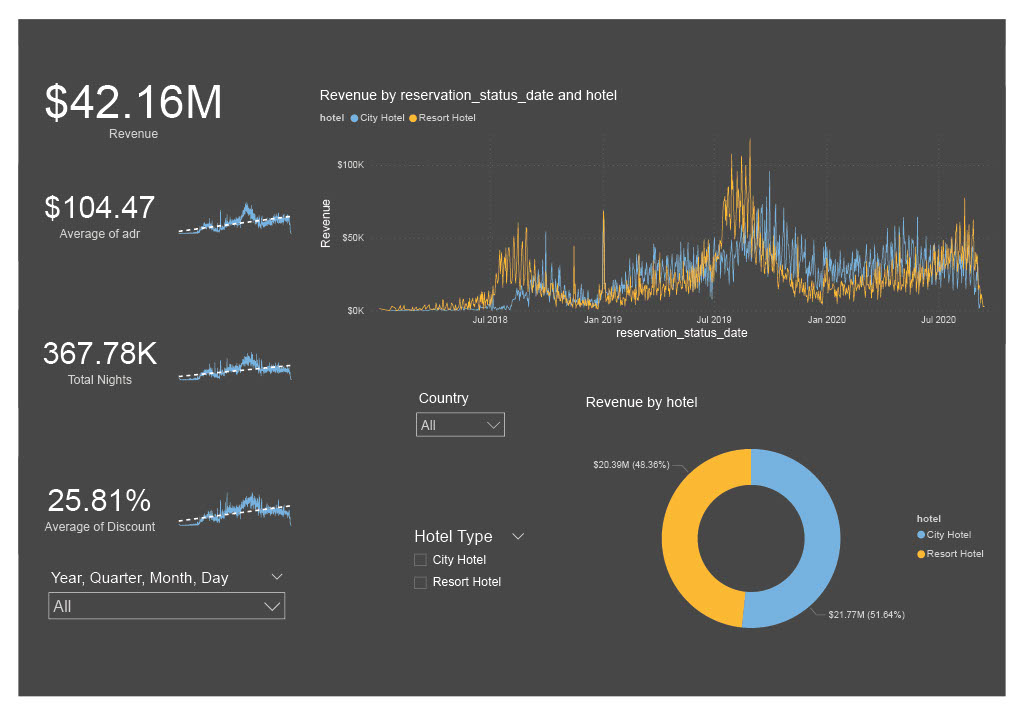

The page's visual inventory and layout, read from the dashboard file:
{"tool":"powerbi","page":{"name":"The Lodging Lens","canvas":[1280,877],"ordinal":0},"visuals":[{"type":"card","fields":{"Values":["Sum(Query1.Revenue)"]},"box":[19.1,42.6,261.5,136.6],"z":0},{"type":"card","fields":{"Values":["Avg(Query1.adr)"]},"box":[0,186.5,211.1,126.4],"z":1000},{"type":"card","fields":{"Values":["Query1.Total Nights"]},"box":[0,377.6,211.1,126.4],"z":2000},{"type":"card","fields":{"Values":["Avg(Query1.Discount)"]},"box":[0,567.1,211.1,126.4],"z":3000},{"type":"lineChart","fields":{"Category":["Query1.reservation_status_date"],"Y":["Sum(Query1.Revenue)"],"Series":["Query1.hotel"]},"box":[384.9,86.7,894.6,333.5],"z":4000},{"type":"slicer","fields":{"Values":["Query1.country"]},"box":[505.3,476,135.1,91.1],"z":5000},{"type":"lineChart","fields":{"Category":["Query1.reservation_status_date"],"Y":["Sum(Query1.adr)"]},"box":[192.6,217.3,175.7,66.3],"z":6000},{"type":"lineChart","fields":{"Category":["Query1.reservation_status_date"],"Y":["Query1.Total Nights"]},"box":[192.6,406.8,175.7,66.3],"z":7000},{"type":"lineChart","fields":{"Category":["Query1.reservation_status_date"],"Y":["Sum(Query1.Discount)"]},"box":[192.6,596.4,175.7,66.3],"z":8000},{"type":"donutChart","fields":{"Category":["Query1.hotel"],"Y":["Sum(Query1.Revenue)"]},"box":[730.1,486.2,536.2,352.6],"z":9000},{"type":"slicer","fields":{"Values":["Query1.reservation_status_date.Variation.Date Hierarchy.Year","Query1.reservation_status_date.Variation.Date Hierarchy.Quarter","Query1.reservation_status_date.Variation.Date Hierarchy.Month","Query1.reservation_status_date.Variation.Date Hierarchy.Day"]},"box":[29.3,707.3,326.7,84.8],"z":11000},{"type":"slicer","fields":{"Values":["Query1.hotel"]},"box":[499.5,653.7,168.9,107.2],"z":12000}]}

Visuals, with their boxes in screenshot pixels (x1, y1, x2, y2), scaled from the page's 1280x877 canvas onto the 1024x715 screenshot:
card - Sum(Query1.Revenue): [15, 35, 224, 146]
card - Avg(Query1.adr): [0, 152, 169, 255]
card - Query1.Total Nights: [0, 308, 169, 411]
card - Avg(Query1.Discount): [0, 462, 169, 565]
lineChart - Query1.reservation_status_date x Sum(Query1.Revenue): [308, 71, 1023, 343]
slicer - Query1.country: [404, 388, 512, 462]
lineChart - Query1.reservation_status_date x Sum(Query1.adr): [154, 177, 295, 231]
lineChart - Query1.reservation_status_date x Query1.Total Nights: [154, 332, 295, 386]
lineChart - Query1.reservation_status_date x Sum(Query1.Discount): [154, 486, 295, 540]
donutChart - Query1.hotel x Sum(Query1.Revenue): [584, 396, 1013, 684]
slicer - Query1.reservation_status_date.Variation.Date Hierarchy.Year x Query1.reservation_status_date.Variation.Date Hierarchy.Quarter: [23, 577, 285, 646]
slicer - Query1.hotel: [400, 533, 535, 620]
